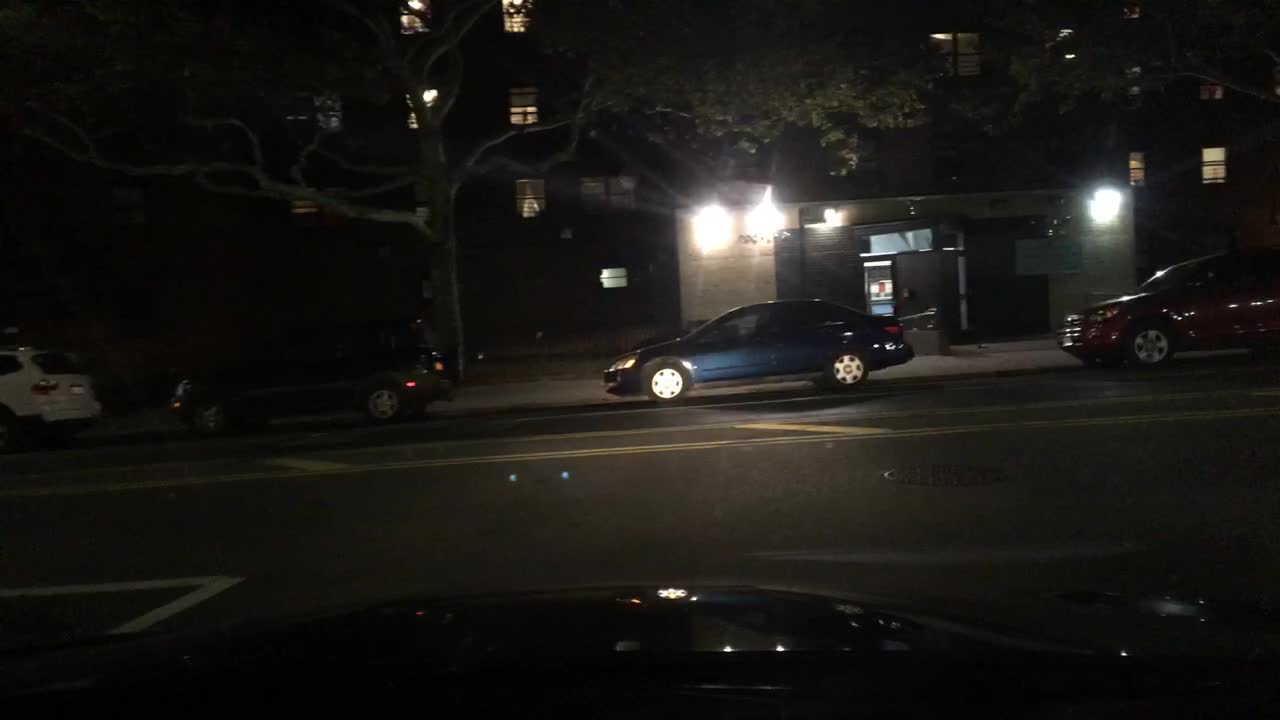car: (168, 315, 450, 441), (601, 298, 916, 410), (1057, 243, 1280, 367), (0, 336, 102, 447)
traffic sign: (1017, 236, 1086, 278)
